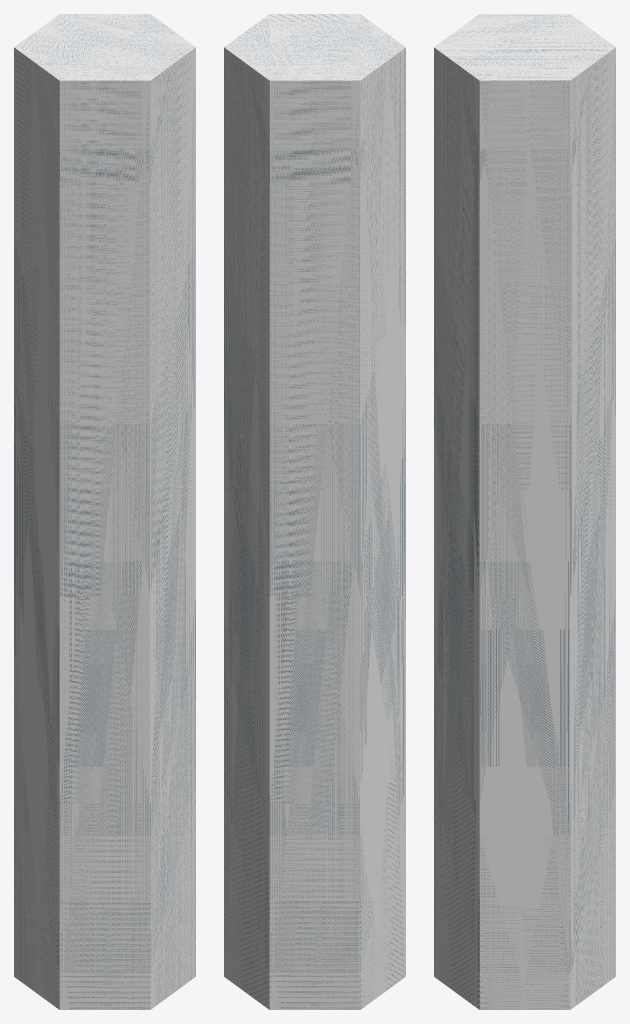
The model's file is Pipette_Liquid.obj.
The picture shows the model from 3 angles, left to right: view 1: azimuth 30°, elevation 25°; view 2: azimuth 150°, elevation 25°; view 3: azimuth 270°, elevation 25°; orthographic projection.
Parts seen in each view (by area): view 1: Mesh1 Model; view 2: Mesh1 Model; view 3: Mesh1 Model.
Boxes of the visible parts, x1,y1,x2,y2 form: Mesh1 Model: [14, 14, 195, 1009]; Mesh1 Model: [224, 14, 405, 1009]; Mesh1 Model: [434, 14, 615, 1009].
Size of the model in its own units: 0.00768 by 0.05 by 0.00887.
